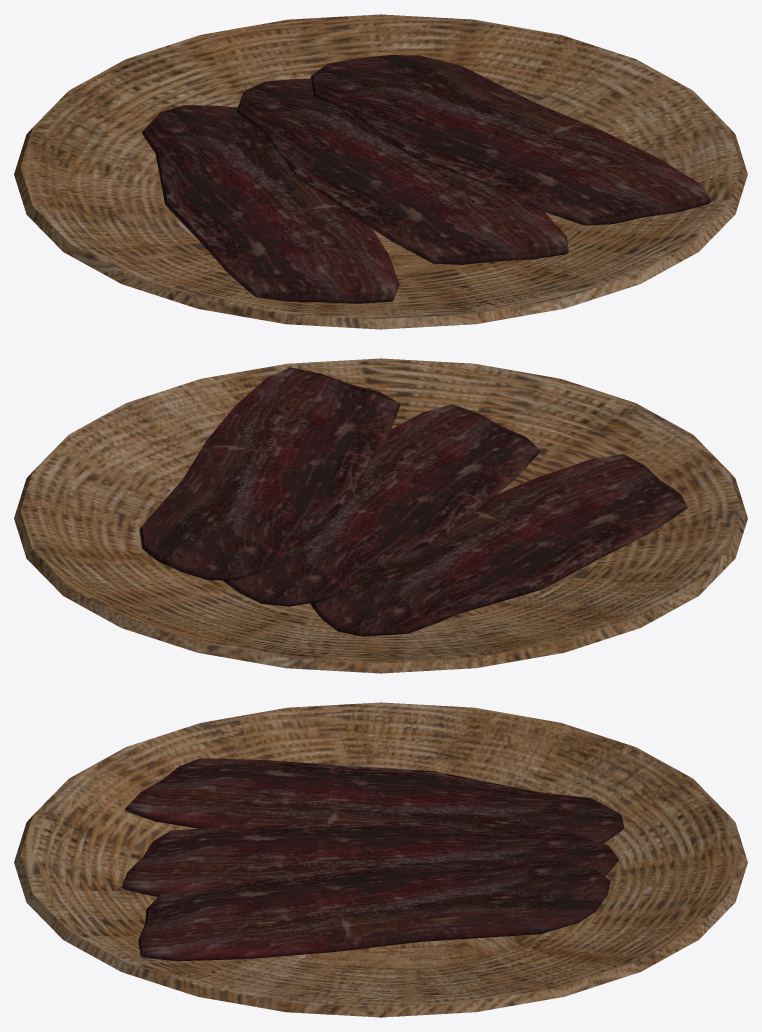
File: beef_jerky.glb
The picture shows the model from 3 angles, top to bottom: view 1: azimuth 30°, elevation 25°; view 2: azimuth 150°, elevation 25°; view 3: azimuth 270°, elevation 25°; orthographic projection.
Parts seen in each view (by area): view 1: SM_Straw_Jar02a, SM_Beef_Jerky.002, SM_Beef_Jerky, SM_Beef_Jerky.001; view 2: SM_Straw_Jar02a, SM_Beef_Jerky.002, SM_Beef_Jerky, SM_Beef_Jerky.001; view 3: SM_Straw_Jar02a, SM_Beef_Jerky.002, SM_Beef_Jerky, SM_Beef_Jerky.001.
Part boxes in pixels (<box>): SM_Straw_Jar02a: <box>14,14,747,329</box>; SM_Beef_Jerky.002: <box>310,55,711,225</box>; SM_Beef_Jerky: <box>141,105,399,303</box>; SM_Beef_Jerky.001: <box>236,79,568,264</box>; SM_Straw_Jar02a: <box>14,358,747,673</box>; SM_Beef_Jerky.002: <box>139,367,400,580</box>; SM_Beef_Jerky: <box>310,454,687,636</box>; SM_Beef_Jerky.001: <box>222,404,540,606</box>; SM_Straw_Jar02a: <box>14,702,747,1017</box>; SM_Beef_Jerky.002: <box>138,860,610,961</box>; SM_Beef_Jerky: <box>124,758,624,843</box>; SM_Beef_Jerky.001: <box>121,821,618,896</box>.
Size of the model in its own units: 0.3248 by 0.0254 by 0.3248.
4 materials, 4 textured.
